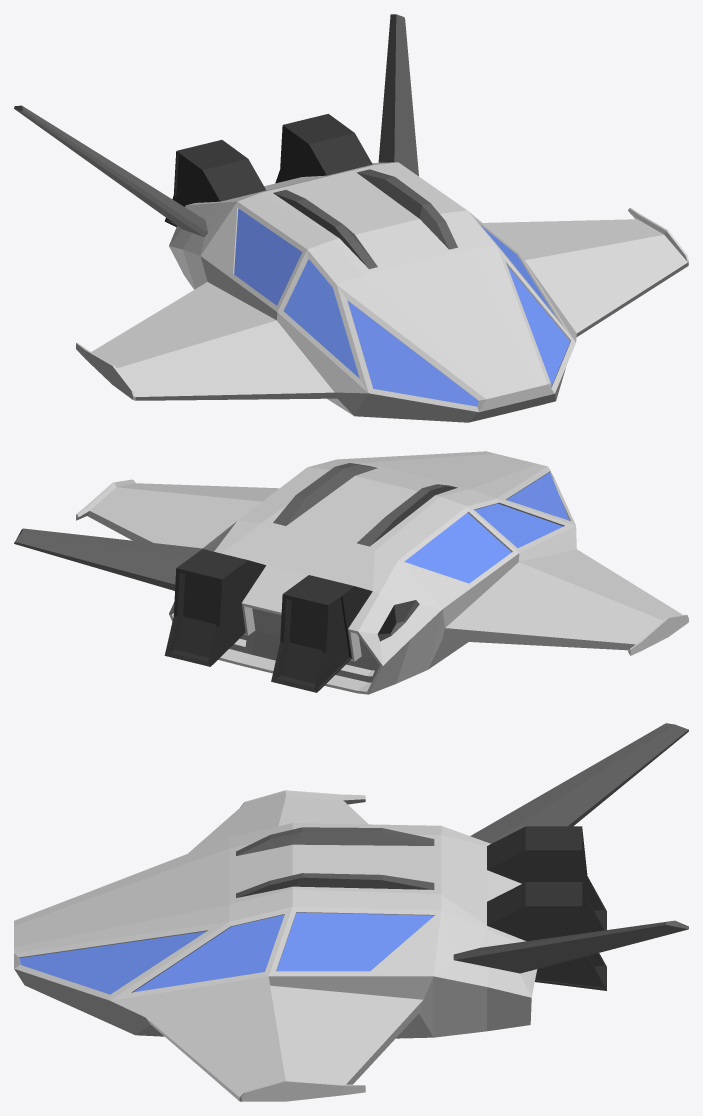
The model's file is ship_24.fbx.
3 renders of one model, top to bottom at view 1: azimuth 30°, elevation 25°; view 2: azimuth 150°, elevation 25°; view 3: azimuth 270°, elevation 25°, orthographic. The views are drawn at different scales.
Visible parts, largest first — view 1: ship_24; view 2: ship_24; view 3: ship_24.
Boxes of the visible parts, left/top/right/bottom form: ship_24: left=14, top=14, right=688, bottom=422; ship_24: left=14, top=451, right=688, bottom=694; ship_24: left=14, top=723, right=688, bottom=1101.
Size of the model in its own units: 1102 by 293 by 1080.
